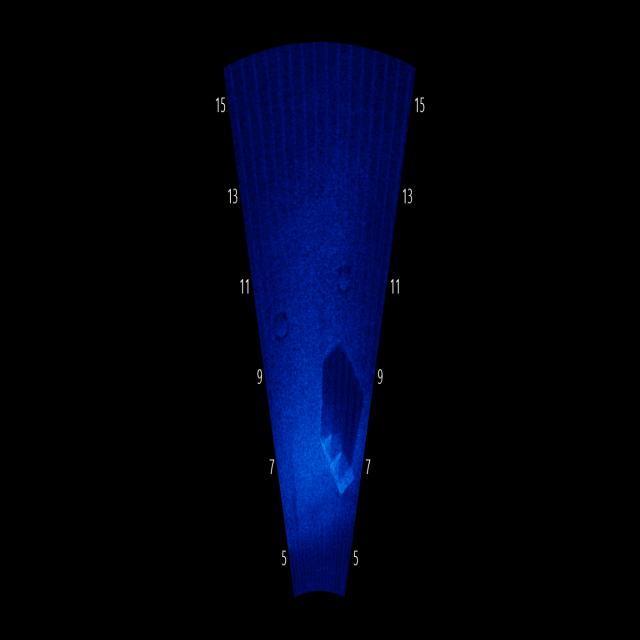square: (309, 411, 362, 513)
